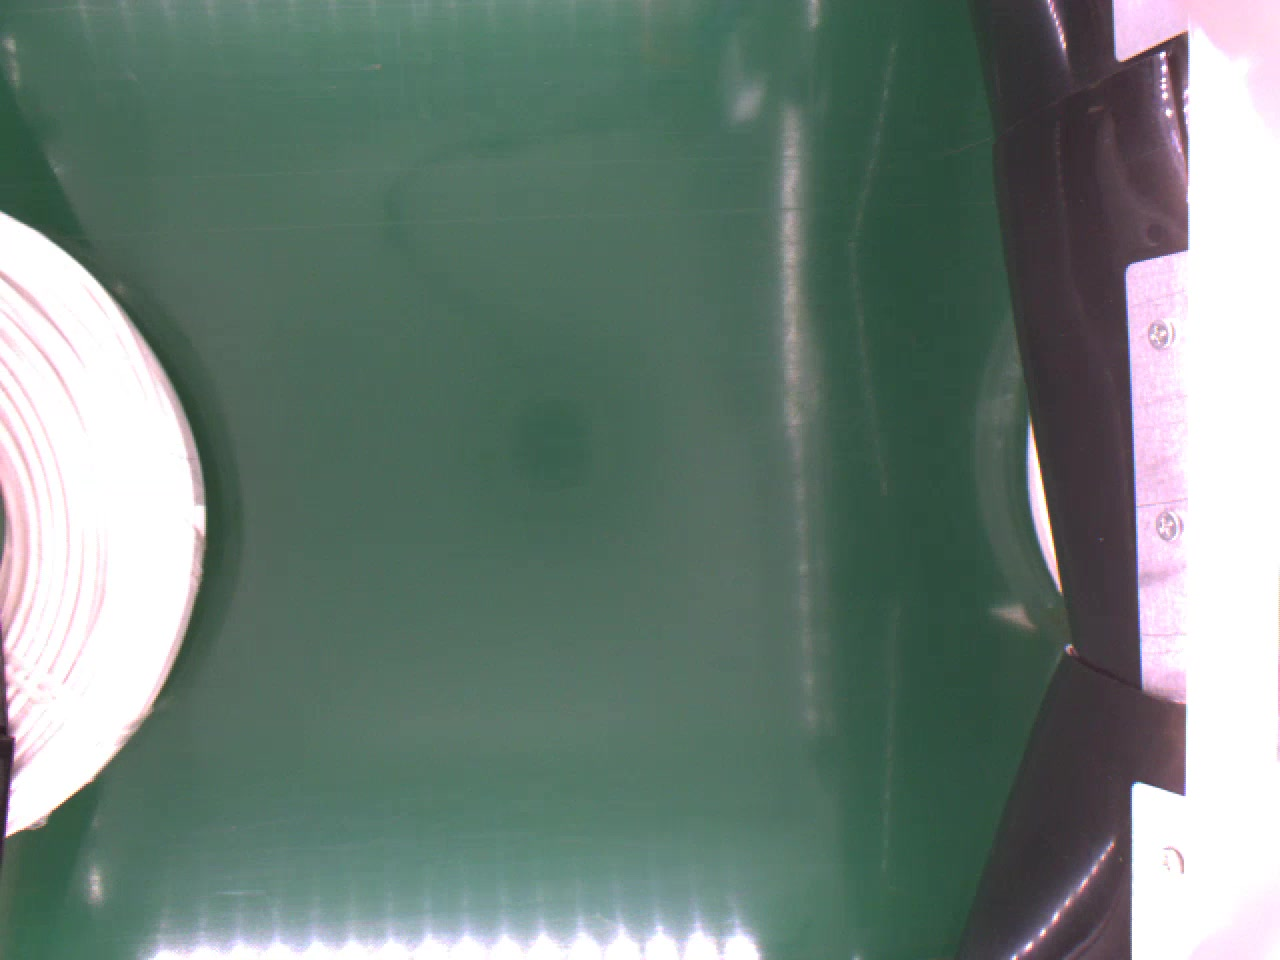white: (0, 211, 214, 837)
